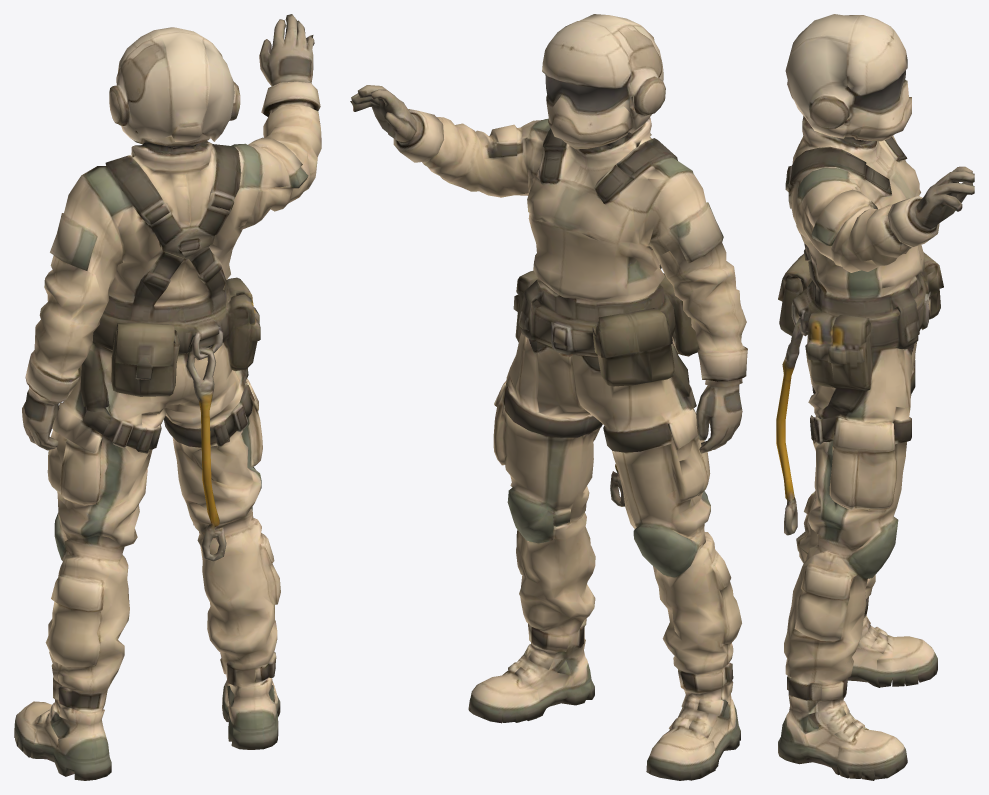
The model's file is worker.glb.
The picture shows the model from 3 angles, left to right: view 1: azimuth 30°, elevation 25°; view 2: azimuth 150°, elevation 25°; view 3: azimuth 270°, elevation 25°; orthographic projection.
Parts seen in each view (by area): view 1: tripo_node_15474e24-d5cb-4e64-9c59-339e14746931; view 2: tripo_node_15474e24-d5cb-4e64-9c59-339e14746931; view 3: tripo_node_15474e24-d5cb-4e64-9c59-339e14746931.
Part boxes in pixels (left/top/right/bottom): tripo_node_15474e24-d5cb-4e64-9c59-339e14746931: left=14, top=14, right=321, bottom=780; tripo_node_15474e24-d5cb-4e64-9c59-339e14746931: left=350, top=14, right=747, bottom=780; tripo_node_15474e24-d5cb-4e64-9c59-339e14746931: left=776, top=14, right=974, bottom=780.
Bounding box in the file's own units: 0.9054 × 1.8 × 0.458.
Materials: 1 (1 with a texture image).
